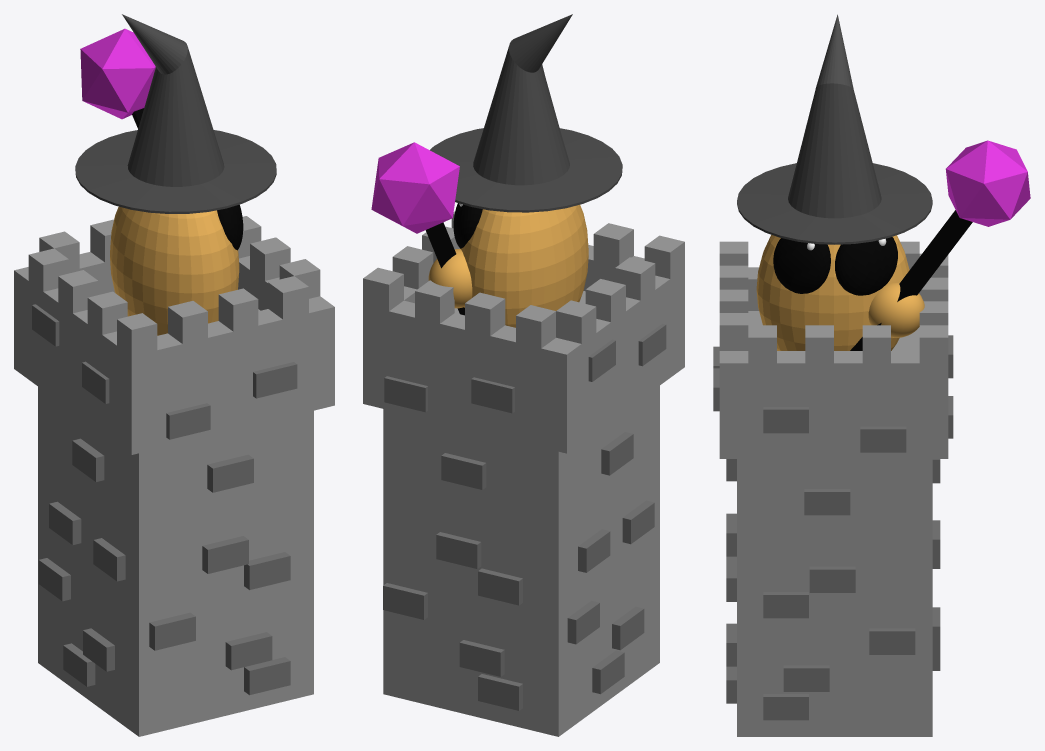
The model's file is MagicTower.fbx.
The picture shows the model from 3 angles, left to right: view 1: azimuth 30°, elevation 25°; view 2: azimuth 150°, elevation 25°; view 3: azimuth 270°, elevation 25°; orthographic projection. The views are drawn at different scales.
Visible parts, largest first — view 1: Cube, Cube.001, Cone, Sphere, Icosphere, Cube.035, Cube.036, Cube.038, Cube.039, Cube.034, Cube.037, Cube.040 (+10 smaller); view 2: Cube, Cube.001, Cone, Sphere, Icosphere, Cube.031, Cube.029, Cube.032, Cube.033, Cube.028, Cube.030, Cube.026 (+10 smaller); view 3: Cube, Cube.001, Cone, Icosphere, Sphere, Sphere.002, Sphere.001, Cube.011, Cube.015, Cube.012, Cube.014, Cube.017 (+3 smaller).
Part boxes in pixels (left/top/right/bottom): Cube: left=38, top=387, right=313, bottom=736; Cube.001: left=14, top=216, right=334, bottom=454; Cone: left=75, top=14, right=276, bottom=213; Sphere: left=110, top=206, right=239, bottom=335; Icosphere: left=80, top=28, right=155, bottom=128; Cube.035: left=225, top=632, right=272, bottom=670; Cube.036: left=207, top=454, right=253, bottom=492; Cube.038: left=202, top=536, right=248, bottom=573; Cube.039: left=149, top=612, right=195, bottom=650; Cube.034: left=244, top=657, right=290, bottom=695; Cube.037: left=244, top=552, right=290, bottom=589; Cube.040: left=253, top=362, right=297, bottom=398; Cube: left=383, top=386, right=659, bottom=736; Cube.001: left=363, top=211, right=684, bottom=453; Cone: left=430, top=14, right=622, bottom=212; Sphere: left=460, top=204, right=588, bottom=327; Icosphere: left=371, top=142, right=472, bottom=315; Cube.031: left=441, top=453, right=486, bottom=489; Cube.029: left=436, top=532, right=481, bottom=568; Cube.032: left=459, top=640, right=504, bottom=676; Cube.033: left=478, top=674, right=522, bottom=710; Cube.028: left=383, top=583, right=427, bottom=619; Cube.030: left=478, top=568, right=522, bottom=605; Cube.026: left=384, top=376, right=427, bottom=412; Cube: left=737, top=459, right=932, bottom=736; Cube.001: left=719, top=241, right=948, bottom=458; Cone: left=737, top=14, right=932, bottom=244; Icosphere: left=850, top=140, right=1030, bottom=350; Sphere: left=756, top=235, right=909, bottom=350; Sphere.002: left=835, top=237, right=897, bottom=295; Sphere.001: left=773, top=238, right=830, bottom=293; Cube.011: left=783, top=665, right=829, bottom=691; Cube.015: left=869, top=628, right=915, bottom=654; Cube.012: left=804, top=489, right=850, bottom=515; Cube.014: left=809, top=566, right=855, bottom=592; Cube.017: left=860, top=426, right=906, bottom=452.
Size of the model in its own units: 243 by 739 by 324.
